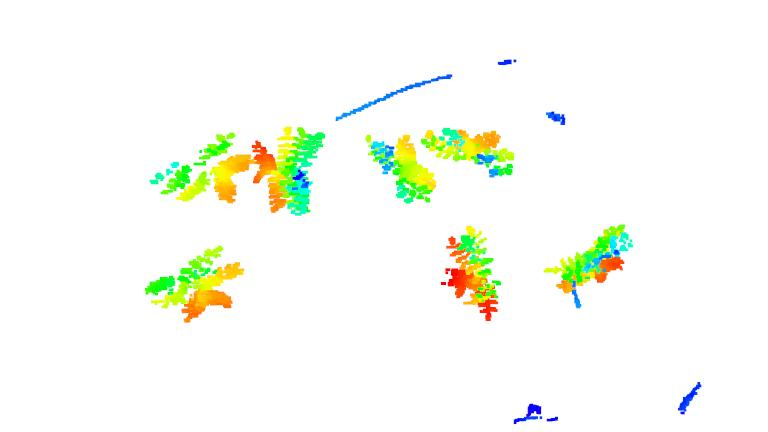chickpea: (147, 131, 254, 205), (249, 124, 333, 218), (145, 243, 245, 319), (545, 223, 637, 298), (438, 223, 506, 323), (363, 129, 439, 207), (419, 122, 517, 179)
